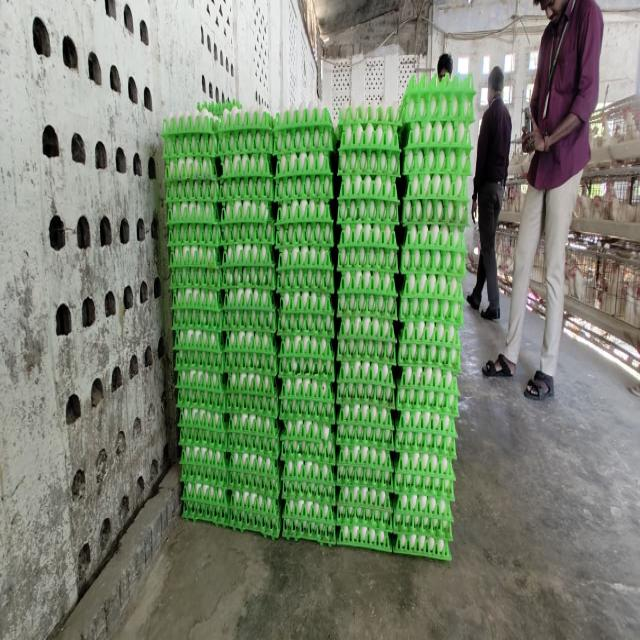egg_tray: (394, 80, 472, 559), (336, 110, 397, 550), (274, 109, 335, 543), (219, 110, 280, 536), (164, 117, 228, 523), (394, 294, 461, 558), (336, 268, 396, 550), (394, 310, 459, 558), (394, 316, 459, 558), (336, 315, 395, 550), (280, 291, 335, 542), (225, 288, 280, 536), (174, 288, 228, 522), (173, 297, 228, 523), (394, 364, 456, 558), (336, 362, 394, 549), (337, 222, 397, 402), (164, 117, 220, 308), (224, 288, 280, 475), (218, 108, 274, 288), (280, 362, 334, 542), (222, 200, 276, 378), (394, 408, 456, 558), (280, 373, 335, 542), (224, 240, 277, 415), (176, 350, 228, 523), (398, 236, 463, 374), (226, 371, 280, 537), (402, 78, 474, 201), (225, 329, 280, 487), (225, 330, 279, 489), (399, 199, 468, 322), (337, 180, 398, 319), (337, 180, 397, 319), (336, 404, 393, 549), (166, 181, 221, 328), (337, 268, 396, 405), (393, 428, 454, 559), (276, 199, 334, 333), (278, 239, 334, 373), (228, 394, 280, 537), (164, 129, 218, 265), (278, 246, 334, 376), (278, 243, 334, 373), (281, 408, 335, 542), (336, 404, 392, 531), (280, 332, 334, 463), (280, 333, 334, 463), (400, 173, 468, 276), (399, 224, 465, 330), (338, 108, 399, 221), (338, 107, 400, 217), (398, 225, 464, 328), (401, 175, 468, 276), (399, 224, 465, 324), (400, 175, 468, 272), (167, 191, 221, 313), (276, 181, 334, 294), (225, 329, 278, 452), (177, 354, 227, 481), (174, 322, 225, 445), (163, 117, 218, 231), (218, 110, 273, 224), (172, 291, 225, 409), (174, 308, 225, 430), (279, 290, 334, 402), (179, 398, 228, 523), (336, 441, 392, 549), (169, 216, 222, 329), (274, 108, 336, 202), (224, 286, 277, 395), (395, 365, 456, 459), (394, 409, 457, 500), (336, 317, 396, 410), (337, 312, 396, 405), (221, 190, 276, 288), (222, 191, 275, 289), (402, 122, 471, 197), (163, 114, 218, 205), (228, 398, 279, 496), (223, 285, 276, 379), (278, 288, 334, 375), (224, 287, 277, 376), (282, 456, 335, 544), (280, 376, 335, 460), (227, 407, 280, 494), (168, 219, 221, 301), (338, 108, 400, 176), (180, 439, 228, 525), (336, 479, 392, 551), (218, 126, 273, 198), (338, 222, 398, 288), (402, 118, 472, 172), (394, 494, 452, 559), (402, 123, 470, 178), (163, 111, 216, 181), (218, 107, 273, 174), (338, 258, 397, 320), (338, 119, 400, 178), (279, 316, 334, 382), (218, 112, 272, 179), (397, 316, 460, 373), (401, 76, 474, 125), (400, 223, 466, 277), (338, 316, 396, 377), (172, 300, 224, 368), (222, 223, 276, 288), (396, 363, 458, 417), (336, 354, 395, 409), (276, 198, 334, 251), (337, 175, 398, 225), (337, 176, 398, 224), (274, 108, 336, 155), (276, 148, 332, 200), (277, 243, 334, 294), (180, 467, 228, 525), (339, 174, 398, 221), (337, 402, 394, 450), (338, 133, 400, 176), (282, 455, 335, 505), (338, 106, 400, 148), (228, 489, 281, 538), (162, 110, 216, 158), (278, 290, 334, 336), (283, 495, 335, 544), (404, 169, 468, 207), (221, 201, 275, 246), (228, 486, 278, 534), (170, 266, 220, 312), (275, 163, 333, 201), (228, 358, 278, 402), (402, 199, 468, 230), (397, 375, 456, 407), (338, 146, 400, 176), (337, 517, 392, 550), (393, 532, 451, 560), (219, 172, 274, 201), (221, 148, 272, 179), (228, 432, 270, 468), (168, 199, 220, 228), (225, 227, 266, 263), (330, 59, 352, 121), (166, 179, 220, 203), (165, 155, 216, 180), (198, 99, 242, 122), (233, 328, 274, 350), (196, 101, 224, 123), (237, 437, 278, 452), (408, 279, 435, 294), (425, 274, 450, 289), (418, 225, 442, 239), (283, 335, 310, 347), (193, 413, 217, 426), (338, 420, 352, 442), (308, 222, 332, 234), (410, 411, 432, 424), (250, 482, 276, 492), (424, 298, 452, 307), (286, 223, 307, 233), (429, 300, 452, 308), (362, 249, 378, 260), (454, 229, 464, 245), (339, 148, 350, 162), (256, 201, 270, 212), (253, 230, 270, 239), (300, 423, 308, 442), (234, 380, 249, 390), (372, 449, 388, 457), (242, 452, 259, 459), (177, 329, 206, 333), (180, 351, 196, 358), (453, 249, 463, 260), (262, 333, 272, 344), (282, 415, 298, 421), (440, 125, 448, 137), (232, 200, 251, 205), (284, 360, 292, 371), (165, 136, 170, 153), (347, 296, 356, 305), (268, 486, 276, 496), (282, 364, 293, 371), (448, 327, 456, 335), (306, 407, 314, 415), (280, 310, 288, 318), (345, 446, 352, 455), (424, 298, 434, 304), (308, 315, 314, 325), (392, 126, 396, 140), (450, 418, 454, 432), (318, 405, 326, 412), (345, 278, 352, 286), (246, 132, 252, 141), (368, 406, 381, 410), (349, 405, 362, 409), (384, 119, 394, 124), (374, 156, 378, 168), (452, 302, 460, 308), (353, 453, 361, 459), (368, 124, 374, 132), (239, 333, 245, 341), (298, 361, 305, 367), (400, 500, 406, 507), (452, 185, 460, 190), (205, 202, 215, 206), (426, 335, 434, 340), (353, 446, 361, 451), (360, 539, 379, 541), (194, 335, 200, 341), (433, 96, 445, 99), (463, 134, 468, 141), (383, 338, 390, 343), (338, 420, 342, 428), (256, 486, 266, 489), (249, 379, 254, 385), (230, 334, 236, 339), (236, 233, 240, 240), (292, 311, 296, 318), (272, 455, 276, 462), (222, 165, 225, 174), (268, 161, 271, 170), (419, 330, 422, 339), (285, 460, 294, 463), (420, 96, 433, 98), (456, 176, 461, 181), (319, 347, 324, 352), (381, 128, 385, 134), (196, 228, 202, 232), (340, 411, 346, 415), (372, 369, 376, 375), (296, 157, 300, 163), (305, 156, 308, 164), (208, 203, 216, 206), (266, 192, 272, 196), (378, 124, 382, 130), (240, 374, 244, 380), (262, 222, 270, 225), (231, 415, 234, 422), (444, 228, 448, 233), (305, 291, 310, 295), (386, 125, 390, 130), (198, 352, 202, 357), (292, 450, 298, 453), (277, 192, 280, 198), (370, 420, 373, 426), (343, 133, 346, 139), (251, 386, 255, 390), (340, 534, 344, 538), (256, 253, 260, 257), (232, 230, 240, 232), (180, 203, 188, 205), (338, 465, 340, 473), (355, 438, 360, 441), (339, 246, 342, 251), (301, 291, 304, 296), (420, 332, 422, 339), (194, 325, 201, 327), (338, 487, 345, 489), (361, 446, 368, 448), (206, 119, 210, 122), (352, 437, 355, 441), (388, 177, 391, 181), (269, 387, 272, 391), (260, 385, 266, 387), (240, 477, 243, 481), (350, 539, 356, 541), (254, 131, 260, 133), (184, 324, 188, 327), (415, 336, 418, 340), (320, 152, 323, 156), (236, 482, 242, 484), (164, 121, 166, 126), (343, 179, 344, 189), (238, 476, 240, 481), (438, 255, 441, 258), (169, 205, 172, 208), (181, 209, 184, 212), (341, 405, 344, 408), (234, 474, 237, 477), (380, 143, 384, 145), (436, 209, 438, 213), (338, 217, 340, 221), (257, 422, 261, 424), (381, 429, 383, 433), (195, 325, 199, 327), (304, 460, 312, 461), (324, 294, 328, 296), (368, 488, 376, 489), (326, 346, 328, 350), (244, 482, 251, 483), (172, 271, 174, 274), (368, 297, 374, 298), (441, 416, 443, 419), (190, 172, 192, 175), (343, 211, 346, 213), (172, 120, 174, 123), (266, 412, 272, 413), (296, 460, 302, 461), (270, 183, 272, 186), (366, 176, 369, 178), (194, 446, 197, 448), (283, 204, 286, 206), (388, 297, 393, 298), (400, 353, 405, 354), (208, 242, 210, 244), (228, 107, 230, 109), (442, 428, 444, 430), (412, 227, 416, 228), (444, 300, 446, 302), (254, 382, 258, 383), (416, 275, 420, 276), (346, 536, 350, 537), (188, 119, 190, 121), (266, 186, 270, 187), (280, 227, 282, 229), (390, 377, 392, 379), (377, 124, 378, 128), (252, 344, 254, 346), (433, 429, 436, 430), (198, 118, 199, 121), (248, 224, 251, 225), (283, 205, 286, 206), (369, 492, 372, 493), (391, 387, 392, 390), (300, 451, 302, 452), (311, 427, 313, 428), (416, 298, 418, 299), (189, 422, 191, 423), (316, 176, 318, 177), (182, 131, 184, 132), (199, 176, 201, 177), (458, 182, 459, 184), (376, 177, 378, 178), (262, 443, 264, 444), (257, 374, 259, 375), (358, 176, 359, 177), (214, 298, 215, 299), (229, 243, 230, 244), (303, 240, 304, 241), (434, 192, 435, 192), (310, 258, 310, 258), (183, 172, 183, 172), (181, 120, 181, 121), (186, 417, 186, 418), (352, 412, 352, 414), (461, 320, 461, 321), (228, 439, 228, 440), (330, 170, 330, 172), (214, 144, 214, 145), (252, 255, 252, 257), (320, 294, 322, 294), (358, 176, 358, 177), (384, 492, 386, 492), (383, 490, 383, 490), (368, 454, 368, 455), (168, 189, 168, 190), (343, 320, 343, 321), (363, 216, 363, 217), (250, 442, 250, 443), (414, 176, 414, 177)
